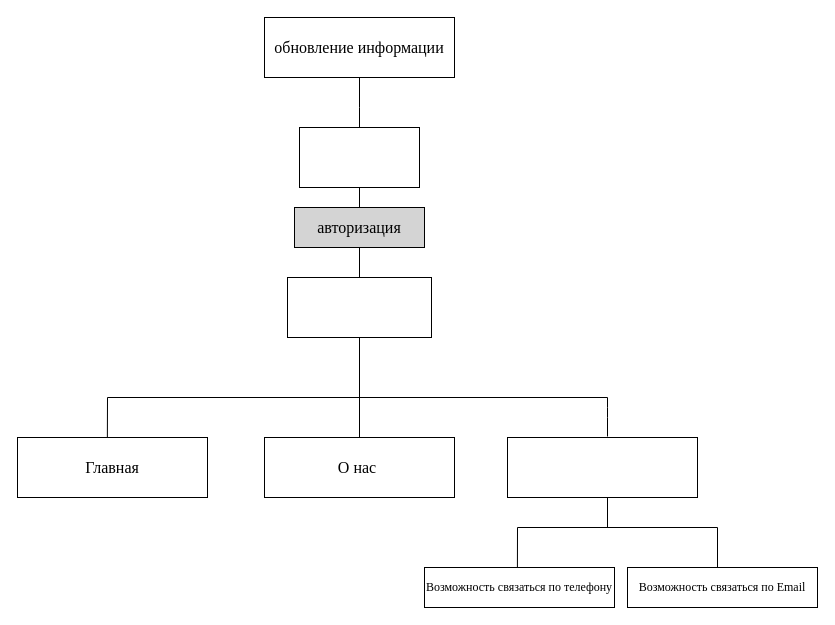
Image size: 835x625. Some labels were removed from this diagram. The shapes that lost their labels are listed below. From the top down, each one's box as (x1, y1, x2, y2) in pixels, then its label:
(298, 126, 420, 188): права администратора
(286, 276, 432, 338): структура сайта
(506, 436, 698, 498): Связь с нами
